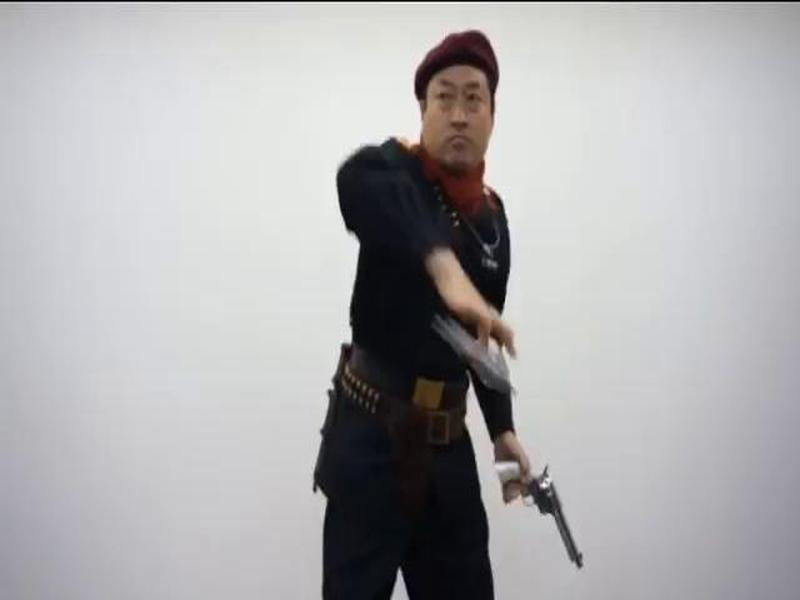Revolver: (488, 441, 602, 591)
